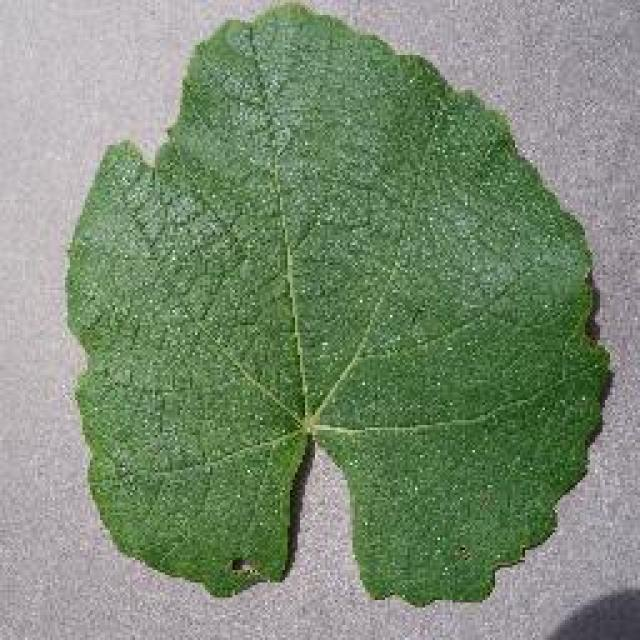Grape___healthy: (68, 5, 608, 602)
